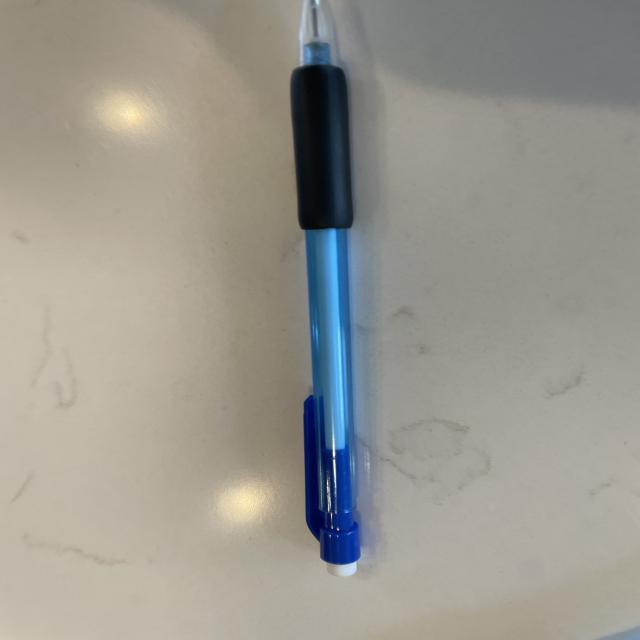mechanical-pencils: (285, 1, 361, 577)
